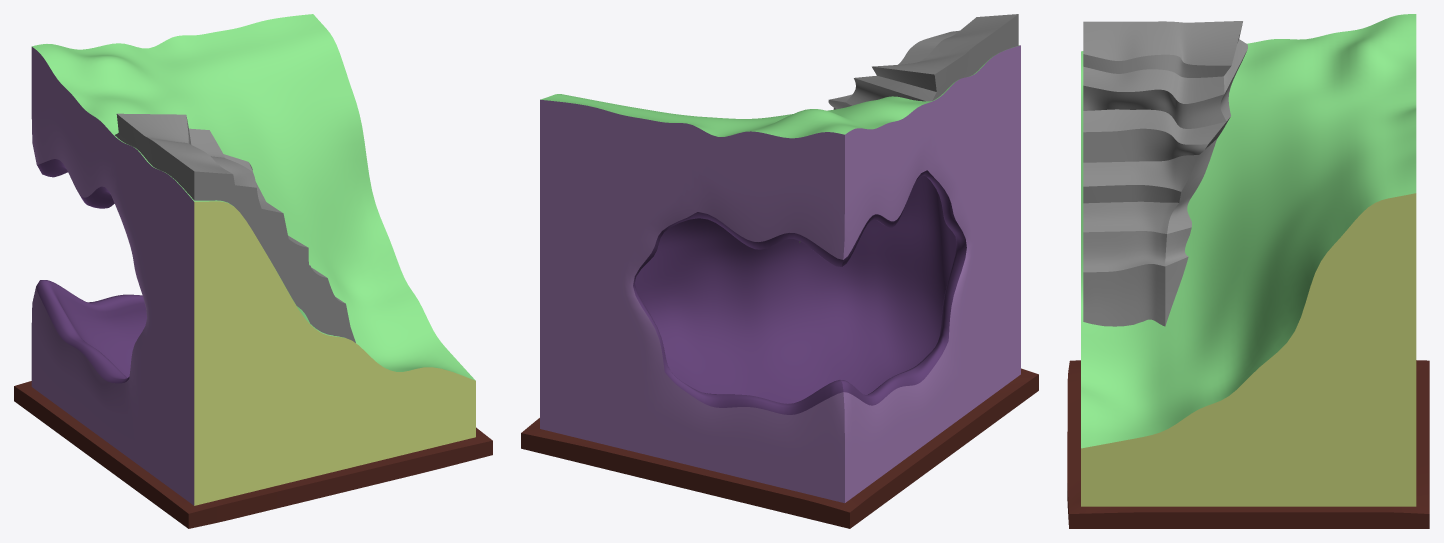
The model's file is diorama with rocks.fbx.
The picture shows the model from 3 angles, left to right: view 1: azimuth 30°, elevation 25°; view 2: azimuth 150°, elevation 25°; view 3: azimuth 270°, elevation 25°; orthographic projection. The views are drawn at different scales.
Parts seen in each view (by area): view 1: Aquarium, Rocks; view 2: Aquarium, Rocks; view 3: Aquarium, Rocks.
Boxes of the visible parts, bbox=[...] form: Aquarium: bbox=[14, 14, 492, 528]; Rocks: bbox=[115, 113, 355, 342]; Aquarium: bbox=[521, 45, 1038, 528]; Rocks: bbox=[799, 14, 1018, 242]; Aquarium: bbox=[1067, 14, 1429, 528]; Rocks: bbox=[1083, 21, 1247, 326].
Size of the model in its own units: 52.27 by 58.66 by 52.39.
